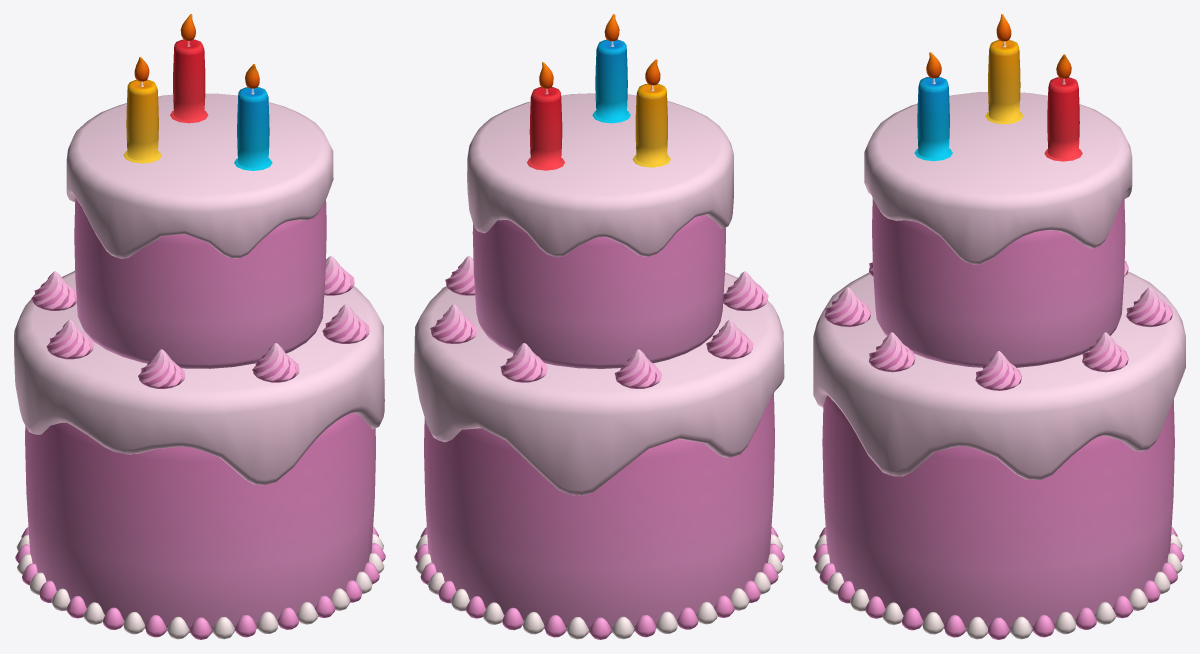
The model's file is Cake_Cherry_V1_00.fbx.
The picture shows the model from 3 angles, left to right: view 1: azimuth 30°, elevation 25°; view 2: azimuth 150°, elevation 25°; view 3: azimuth 270°, elevation 25°; orthographic projection.
Parts seen in each view (by area): view 1: Cake_Cherry_V1_00; view 2: Cake_Cherry_V1_00; view 3: Cake_Cherry_V1_00.
Part boxes in pixels (x1,y1,x2,y2): Cake_Cherry_V1_00: [14, 14, 385, 639]; Cake_Cherry_V1_00: [414, 14, 784, 639]; Cake_Cherry_V1_00: [813, 14, 1185, 639].
Bounding box in the file's own units: 65.77 × 102 × 65.84.
